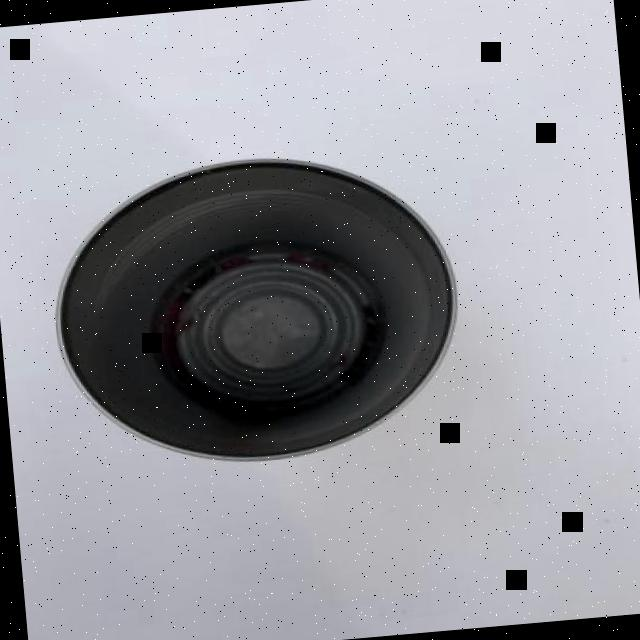can: (28, 140, 470, 480)
